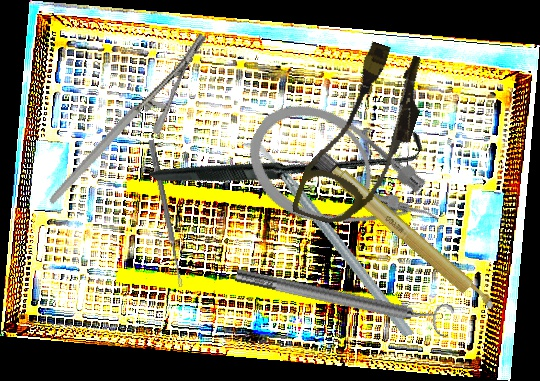Cannula: (229, 83, 458, 280), (290, 33, 437, 241)
Chopper: (241, 112, 414, 365)
Fixation Ring: (232, 255, 456, 341)
Hook Surgical: (148, 20, 428, 296)
Needle Holder: (13, 30, 242, 205)
Scalpel Handle: (309, 148, 499, 317)
Surgical Spoon: (146, 139, 186, 288)
